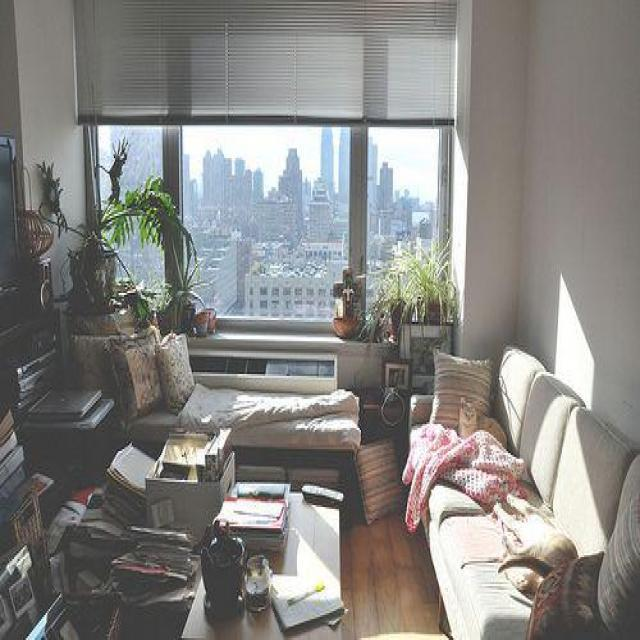couch: (402, 345, 640, 640)
